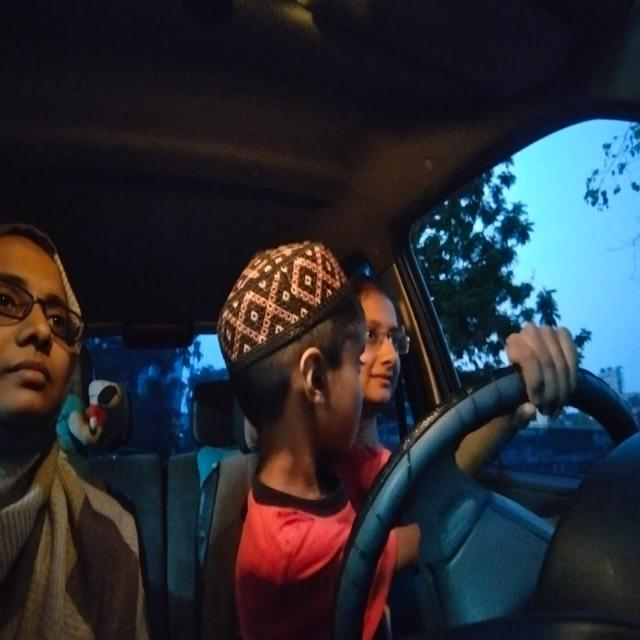child: (216, 225, 376, 460)
person: (1, 212, 100, 442), (363, 266, 411, 406)
